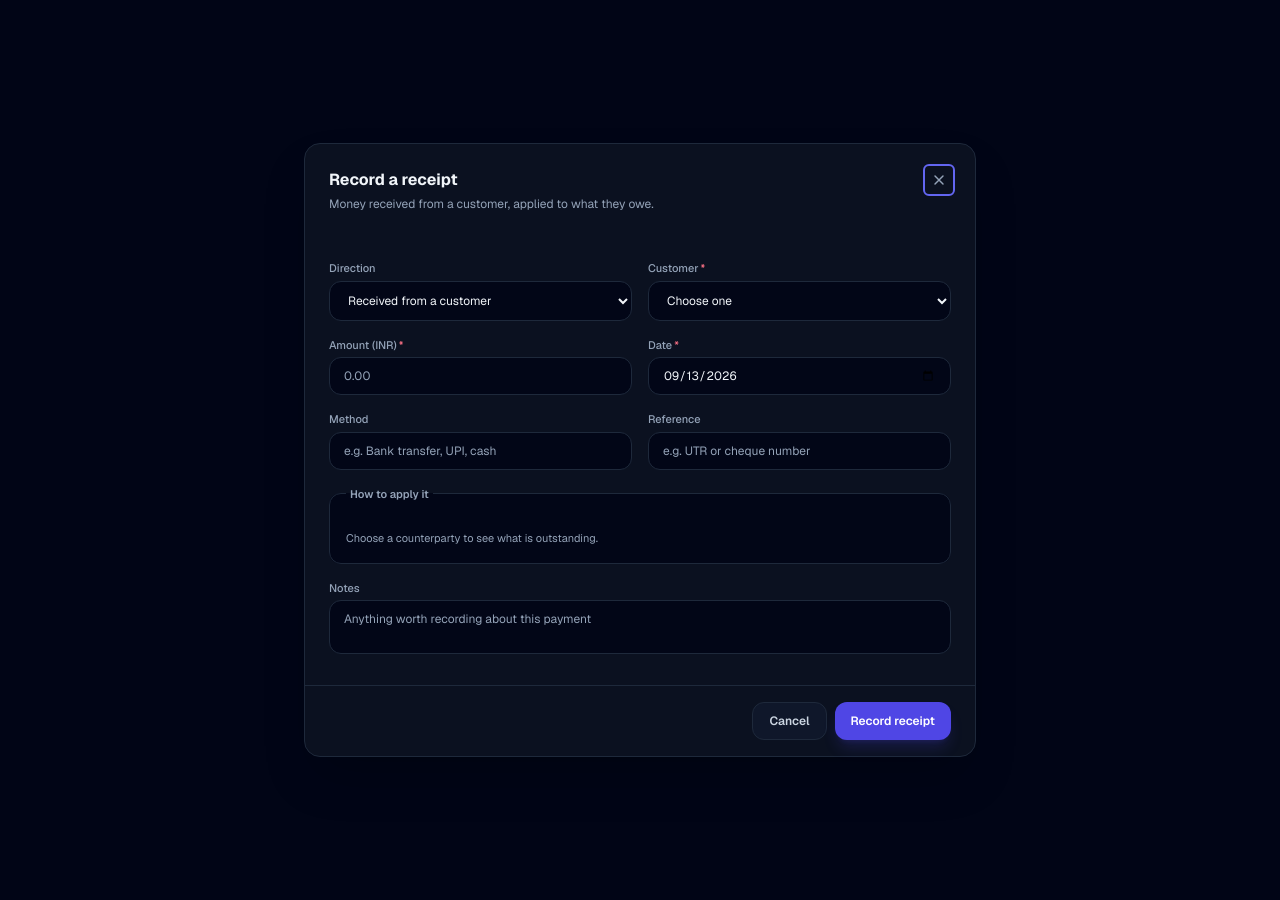
Scenario: RecordPaymentModal › pre-fills a manual allocation with the oldest-first split
Step 1. Select "Acme Ltd" in the dropdown labelled "Customer*" → {"x": 800, "y": 300}, box 648,280 -> 951,320
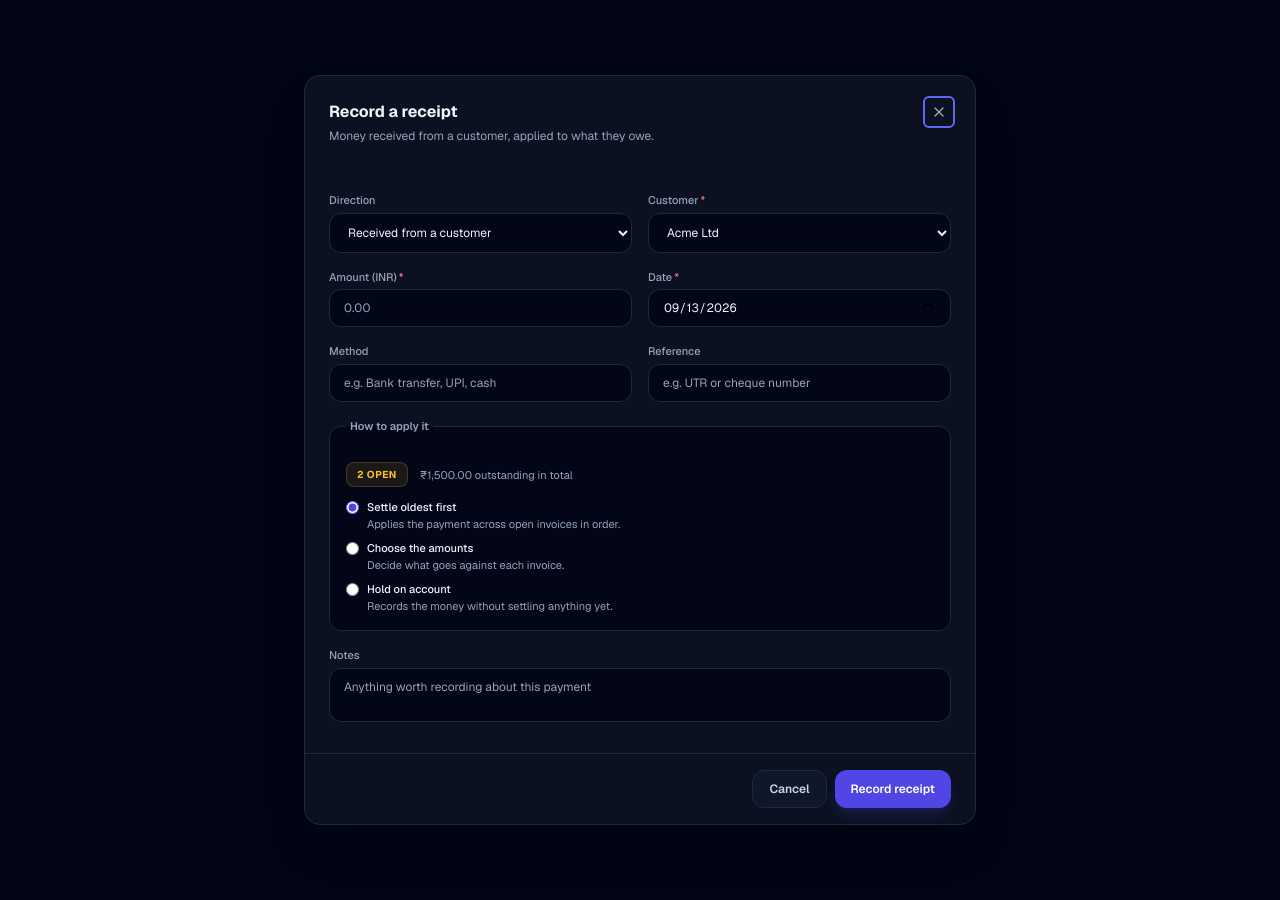
expect the text "2 open" is shown: met, box 346,462 -> 408,487
Step 2. Type "1200" into the field labelled "Amount (INR)*" → {"x": 480, "y": 308}, box 329,289 -> 632,327
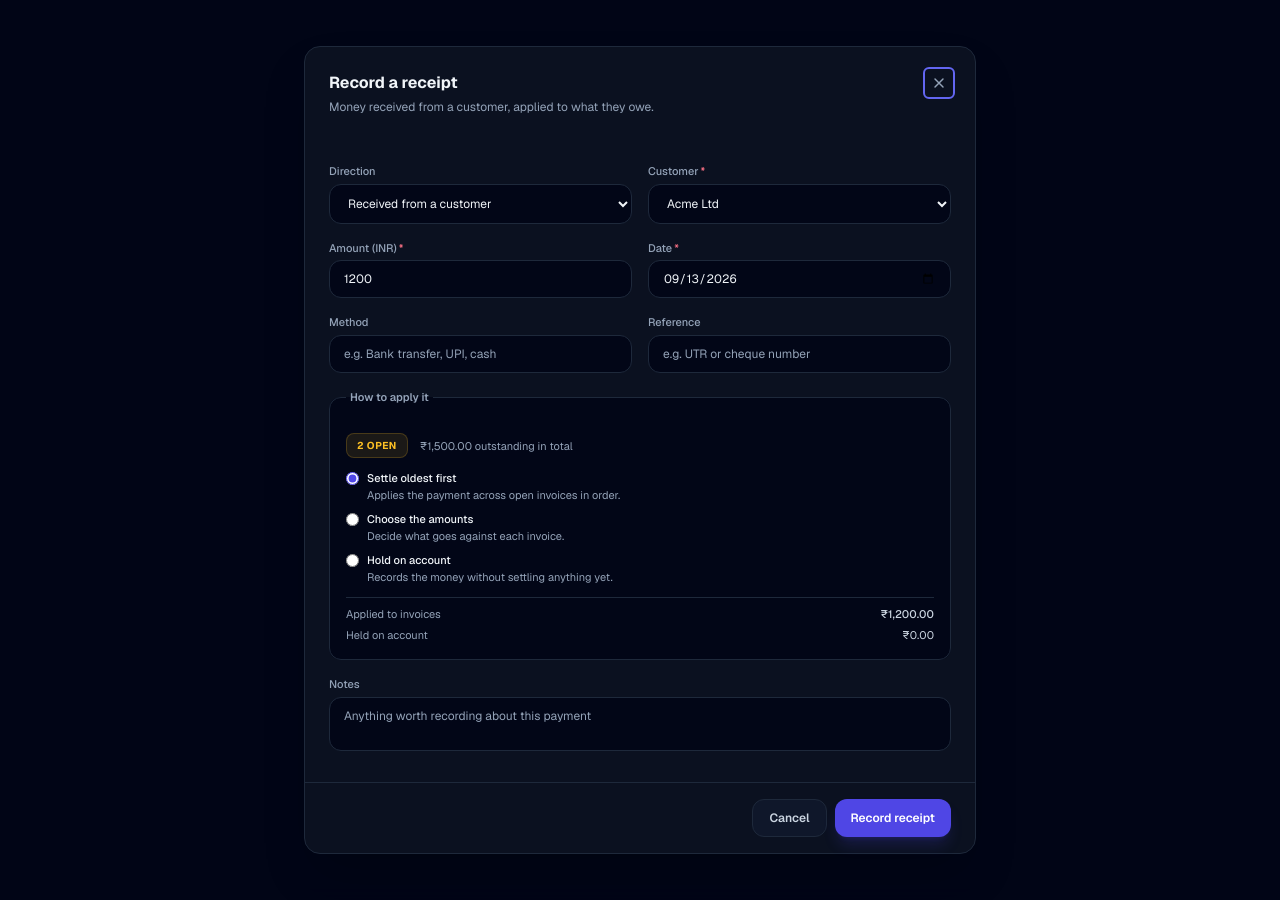
Step 3. Click the radio button labelled "Choose the amounts Decide what goes against each invoice." → {"x": 352, "y": 520}, box 346,513 -> 359,526
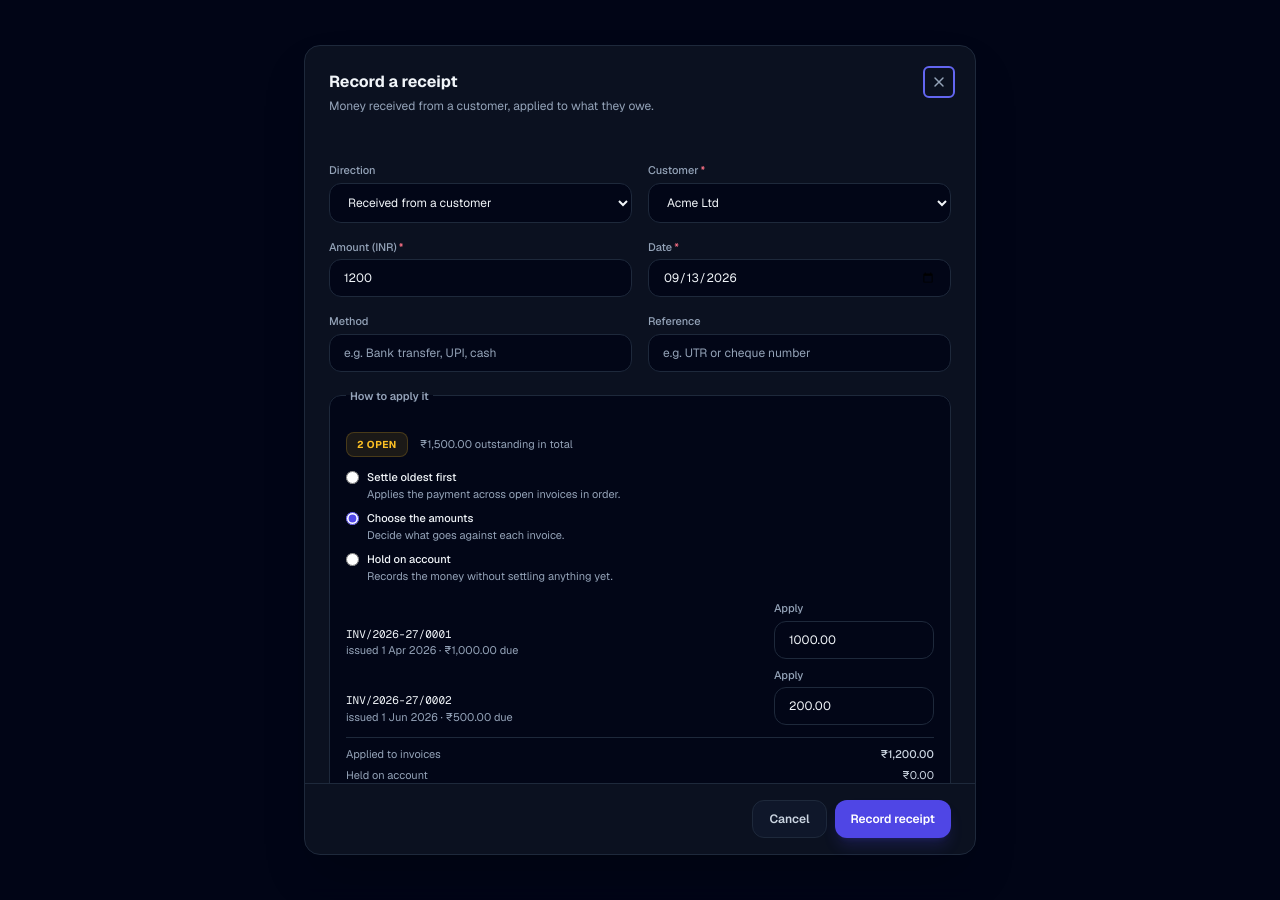
expect the field labelled "Apply" in the row of "₹1,000.00" holds "1000.00": met, box 774,620 -> 934,658
expect the field labelled "Apply" in the row of "₹500.00" holds "200.00": met, box 774,687 -> 934,725
